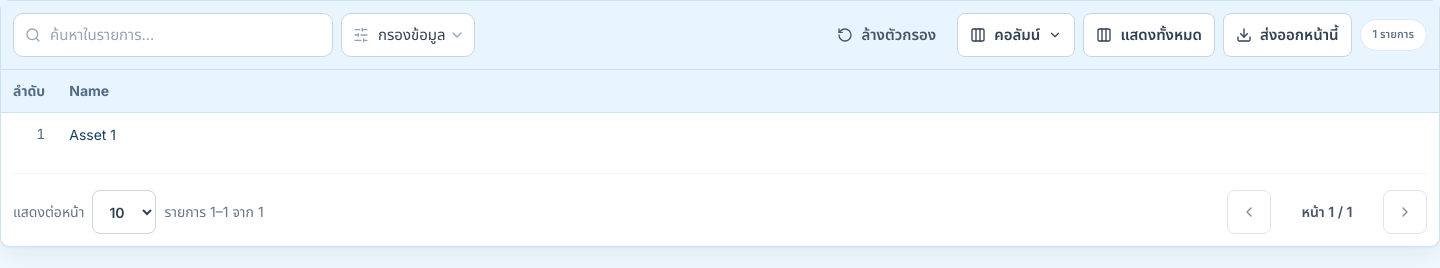
Test case: DataTable › แสดงทุกคอลัมน์ได้จากปุ่มกลางของทุกตาราง
The width and height of the screenshot is (1440, 268).
Expected: the text "Status" is not shown
Click the button "แสดงทั้งหมด" at (1149, 35), box [1083,13,1215,57]
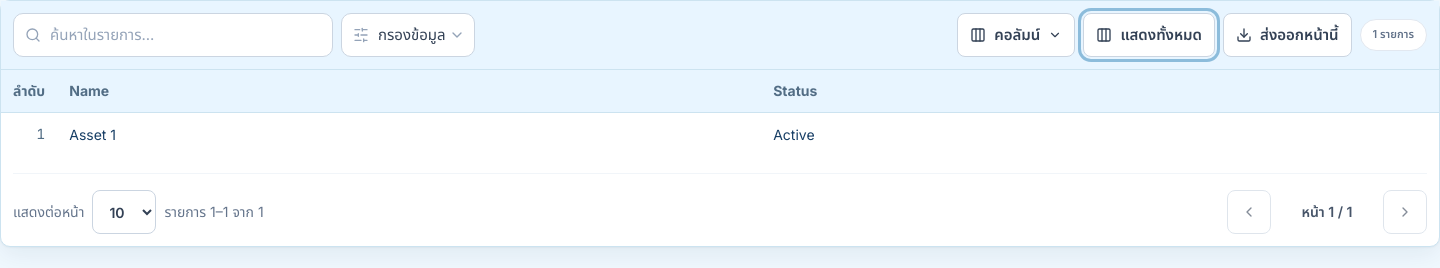
Expected: the column heading "Status" is shown, [761,70,1439,113]
